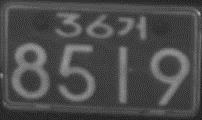1: (106, 45, 139, 104)
3: (55, 11, 82, 38)
5: (56, 43, 96, 101)
6: (86, 14, 114, 38)
8: (11, 42, 51, 100)
9: (148, 46, 191, 106)
거: (116, 15, 147, 40)
